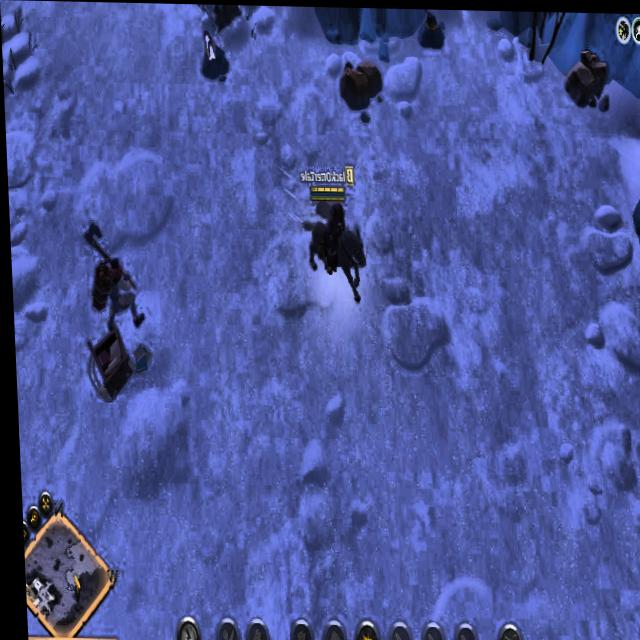copperore: (197, 28, 230, 87), (414, 7, 447, 53)
limestone: (563, 44, 611, 115), (334, 54, 384, 115)
